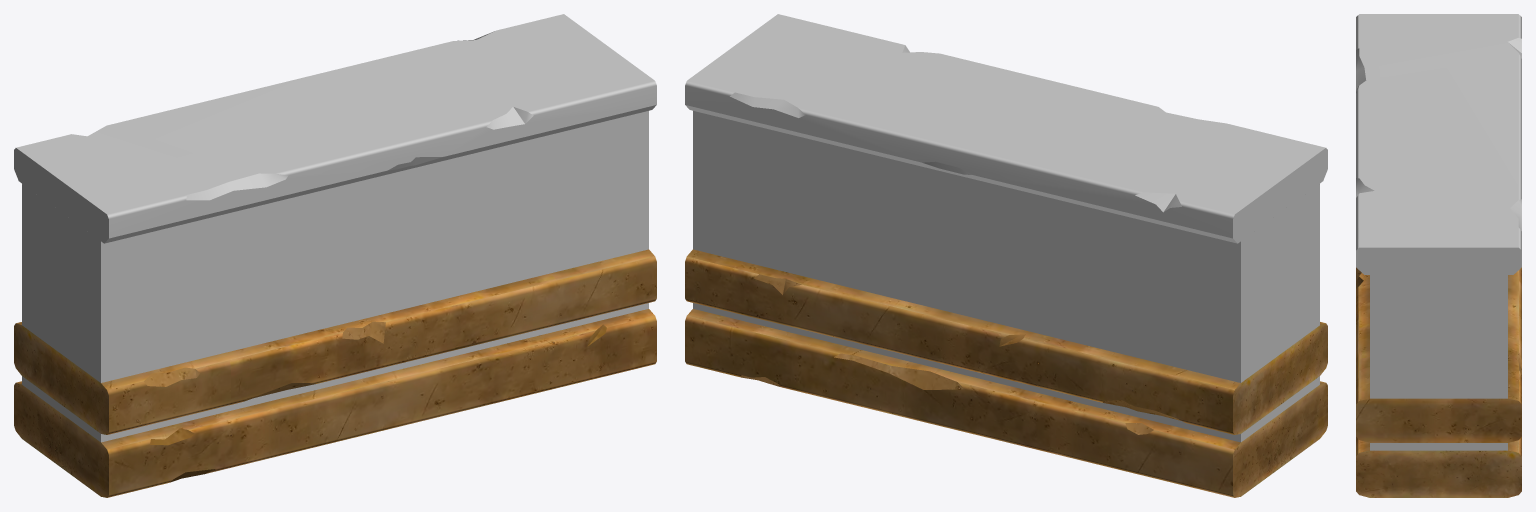
3 renders of one model, left to right at view 1: azimuth 30°, elevation 25°; view 2: azimuth 150°, elevation 25°; view 3: azimuth 270°, elevation 25°, orthographic. The views are drawn at different scales.
Parts seen in each view (by area): view 1: SM_Vault_2x1_Wall_02_LOD0; view 2: SM_Vault_2x1_Wall_02_LOD0; view 3: SM_Vault_2x1_Wall_02_LOD0.
Part boxes in pixels (x1,y1,x2,y2): SM_Vault_2x1_Wall_02_LOD0: (14, 14, 656, 497); SM_Vault_2x1_Wall_02_LOD0: (685, 14, 1327, 497); SM_Vault_2x1_Wall_02_LOD0: (1356, 14, 1521, 497).
Bounding box in the file's own units: 2 × 1 × 0.6.
